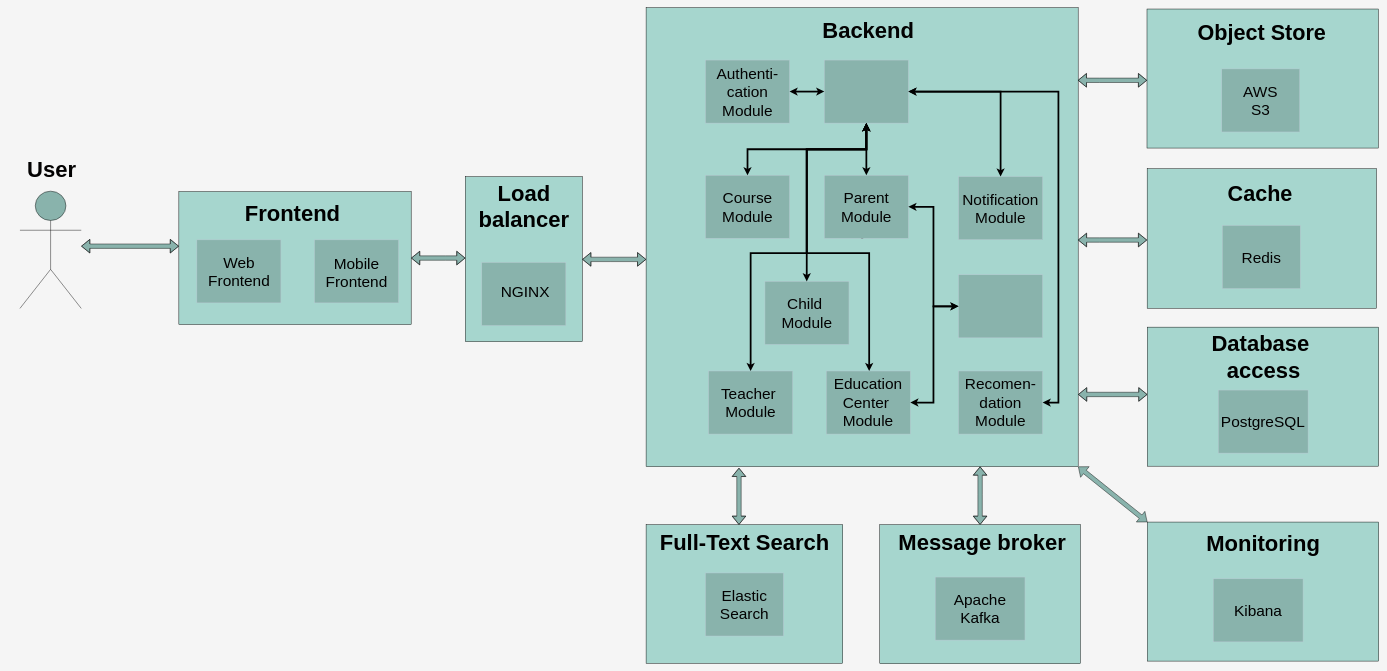
Image size: 1387x671. Some labels were removed from this diagram. The centre of each missing label's shape, as x and y in pixels:
Common Module: the point at 866,91
Payment Module: the point at 1000,306
